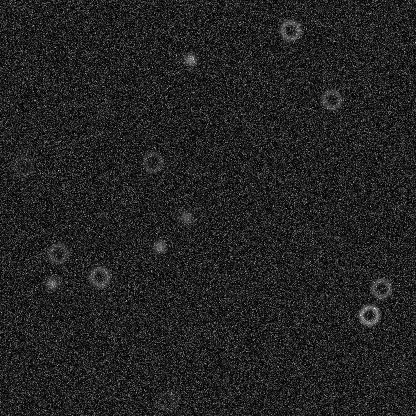Ring: (87, 264, 111, 288), (278, 18, 302, 42), (10, 154, 34, 178), (156, 388, 180, 412), (319, 87, 343, 111), (356, 303, 380, 327), (140, 149, 164, 173), (368, 276, 392, 300), (45, 241, 69, 265)
Spot: (151, 238, 167, 254), (43, 275, 59, 291), (181, 51, 197, 67), (177, 208, 193, 224)
